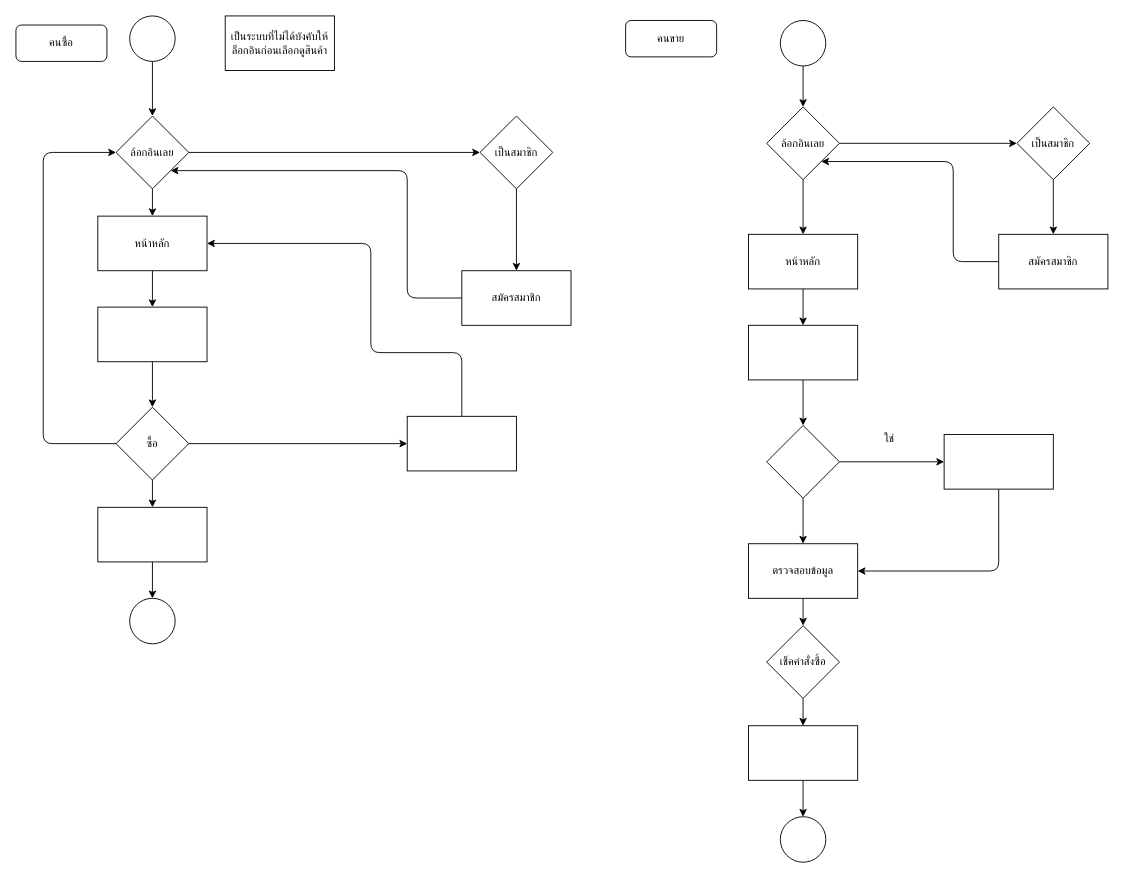
This 1124x878 diagram has some shape labels left out. The shapes that lost their labels are listed below. From the top down, each one's box as (x1, y1, x2, y2) in pixels, then its label:
(97, 306, 207, 362): เลือกดูสินค้า
(748, 324, 858, 380): เข้าสู่เมนูขาย
(406, 415, 516, 471): เข้าตะกร้า
(766, 425, 839, 498): ลงขายสินค้า
(943, 434, 1053, 489): ลงข้มูลสินค้าตัวใหม่
(97, 506, 207, 562): ชำระเงิน
(748, 725, 858, 780): ส่งของ/อัพเดตข้อมูลส่ง
